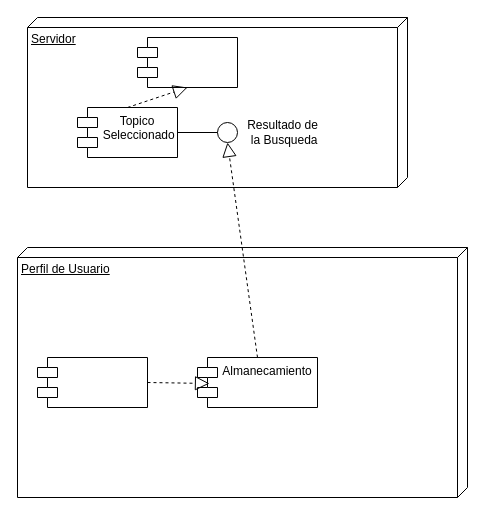
The diagram is 485 pixels wide and 515 high, and some of its shapes have lost their labels. Each missing label, with the centre of its shape:
Catalogo de Topicos: (x=187, y=62)
Datos del Usuario: (x=92, y=382)
